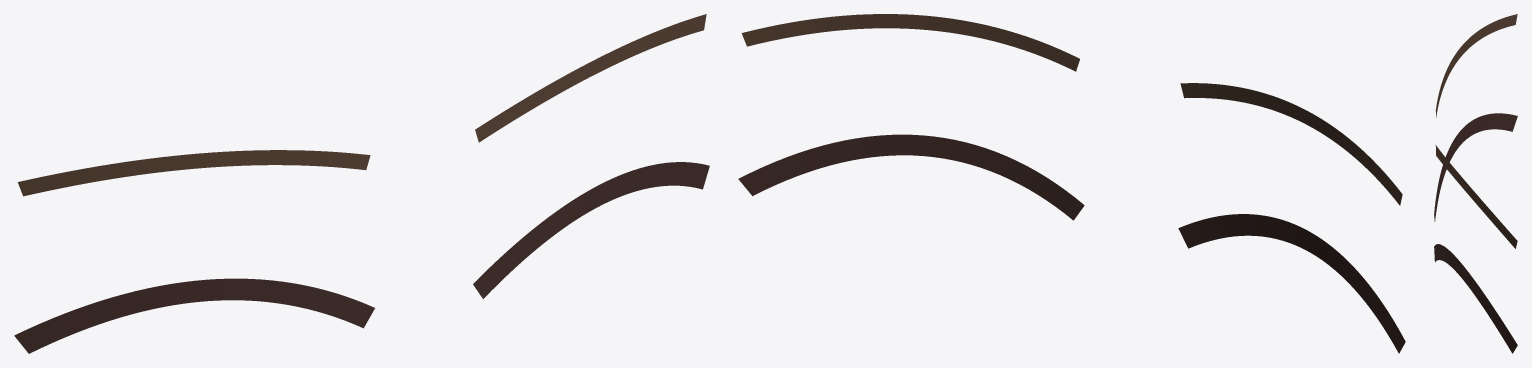
The model's file is female_eyes_ref03_v3.glb.
The picture shows the model from 3 angles, left to right: view 1: azimuth 30°, elevation 25°; view 2: azimuth 150°, elevation 25°; view 3: azimuth 270°, elevation 25°; orthographic projection. The views are drawn at different scales.
Parts seen in each view (by area): view 1: Eye_Closed_-1, Eyebrow_-1, Eye_Closed_1, Eyebrow_1; view 2: Eye_Closed_1, Eyebrow_1, Eye_Closed_-1, Eyebrow_-1; view 3: Eye_Closed_1, Eye_Closed_-1, Eyebrow_-1, Eyebrow_1.
Boxes of the visible parts, bbox=[...] form: Eye_Closed_-1: bbox=[14, 278, 374, 353]; Eyebrow_-1: bbox=[17, 150, 370, 196]; Eye_Closed_1: bbox=[473, 162, 709, 298]; Eyebrow_1: bbox=[475, 14, 706, 142]; Eye_Closed_1: bbox=[738, 134, 1084, 220]; Eyebrow_1: bbox=[741, 14, 1079, 71]; Eye_Closed_-1: bbox=[1178, 214, 1405, 353]; Eyebrow_-1: bbox=[1180, 83, 1402, 205]; Eye_Closed_1: bbox=[1434, 244, 1517, 353]; Eye_Closed_-1: bbox=[1434, 113, 1517, 221]; Eyebrow_-1: bbox=[1435, 14, 1517, 117]; Eyebrow_1: bbox=[1435, 145, 1517, 248].
Bounding box in the file's own units: 0.3719 × 0.0994 × 0.0574.
